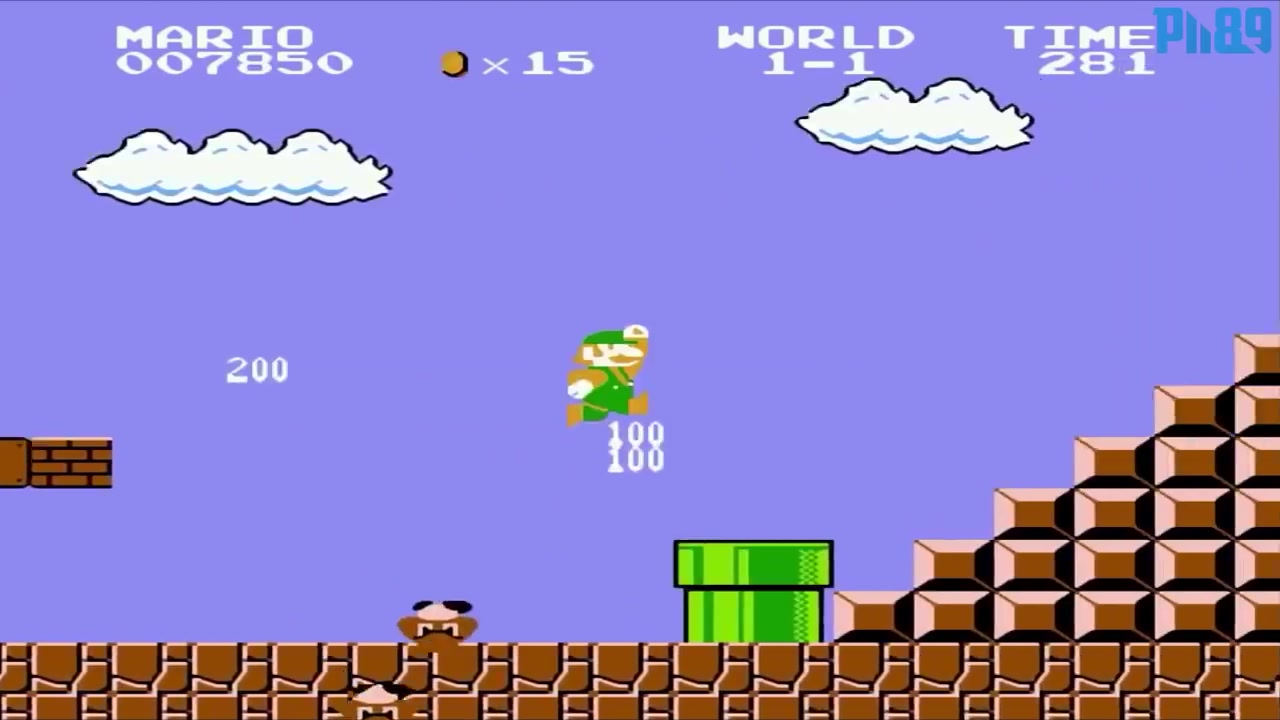mario: (544, 320, 676, 433)
